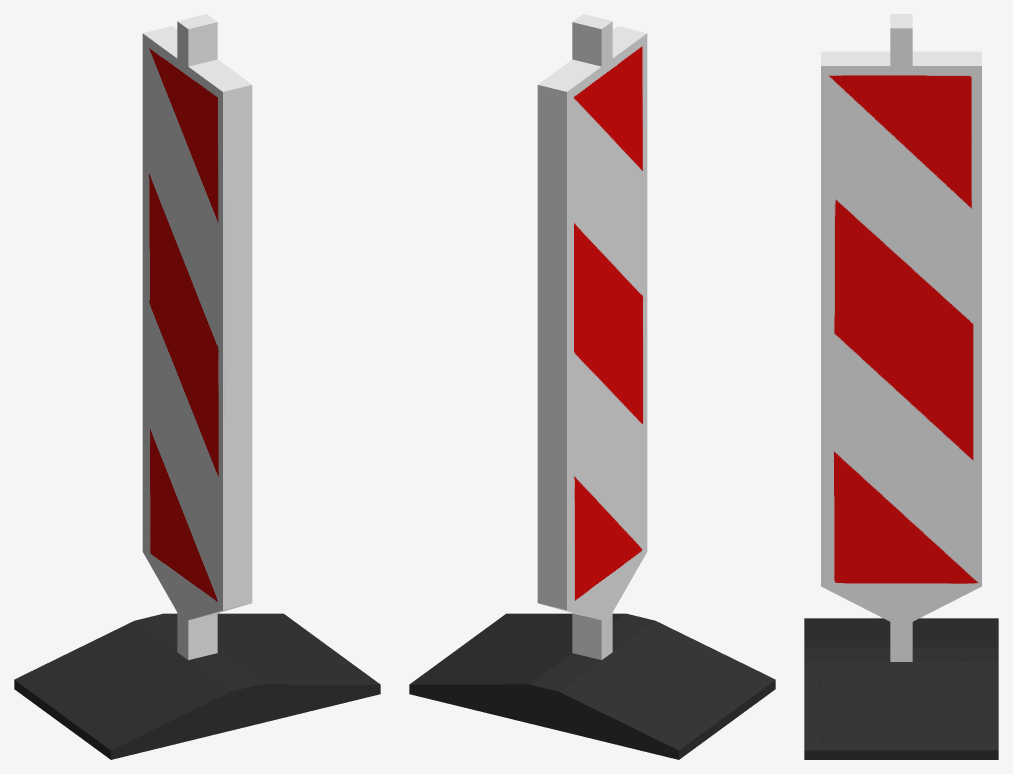
Rendered from directional_board.fbx.
The picture shows the model from 3 angles, left to right: view 1: azimuth 30°, elevation 25°; view 2: azimuth 150°, elevation 25°; view 3: azimuth 270°, elevation 25°; orthographic projection.
Visible parts, largest first — view 1: directional_board; view 2: directional_board; view 3: directional_board.
Boxes of the visible parts, left/top/right/bottom form: directional_board: left=14, top=14, right=380, bottom=759; directional_board: left=409, top=14, right=775, bottom=759; directional_board: left=804, top=14, right=998, bottom=759.
Bounding box in the file's own units: 33.76 × 54.32 × 129.
